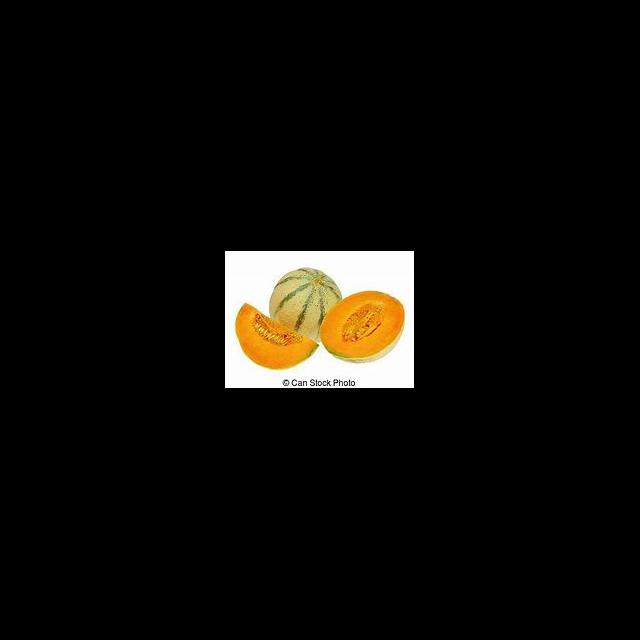Hami Melon: (322, 290, 407, 364), (235, 303, 320, 372)
